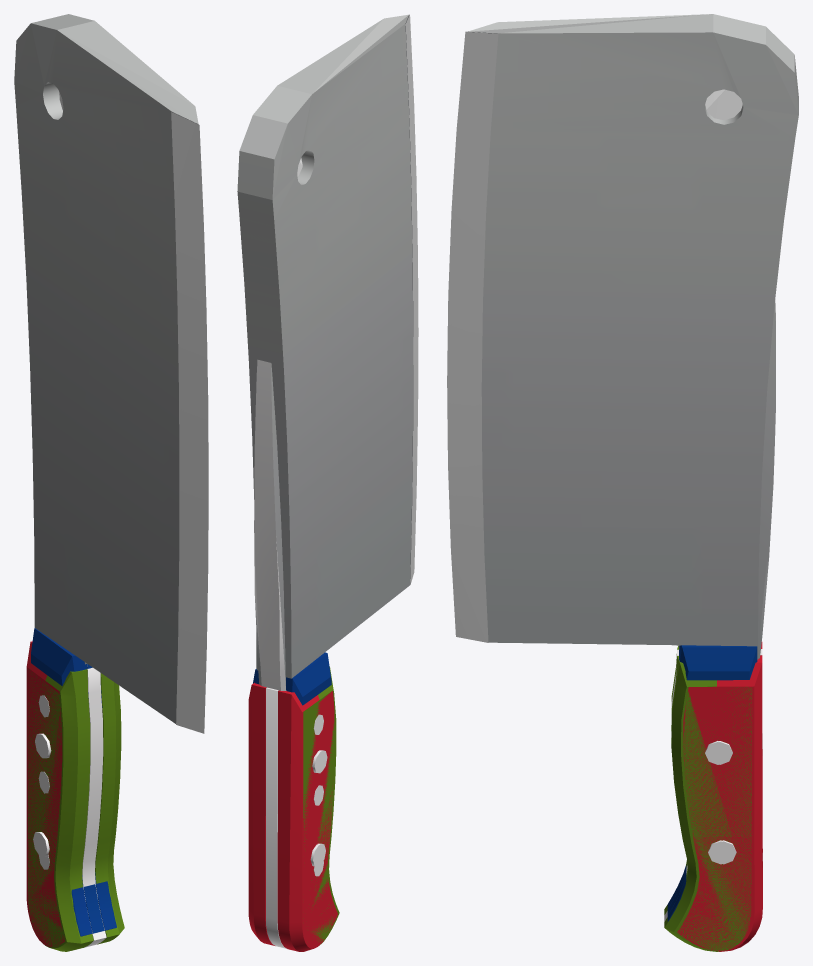
The model's file is knives_new2.gltf.
3 renders of one model, left to right at view 1: azimuth 30°, elevation 25°; view 2: azimuth 150°, elevation 25°; view 3: azimuth 270°, elevation 25°, orthographic. The views are drawn at different scales.
Visible parts, largest first — view 1: Knife_cut_area, Knife_bottom (×3), Knife_cut_area_white; view 2: Knife_cut_area (×2), Knife_bottom (×3), Knife_cut_area_white; view 3: Knife_cut_area (×2), Knife_bottom (×3), Knife_cut_area_white, Knife_Shine.
Part boxes in pixels (x1,y1,x2,y2): Knife_cut_area: (14,14,198,723); Knife_bottom (×3): (26,628,124,951); Knife_cut_area_white: (171,112,208,733); Knife_cut_area (×2): (237,14,413,690); Knife_bottom (×3): (248,652,339,951); Knife_cut_area_white: (405,14,418,584); Knife_cut_area (×2): (467,14,798,659); Knife_bottom (×3): (664,642,762,951); Knife_cut_area_white: (447,31,498,642); Knife_Shine: (705,89,742,120).
Size of the model in its own units: 0.2914 by 4.09 by 1.42.
3 materials, 3 textured.
